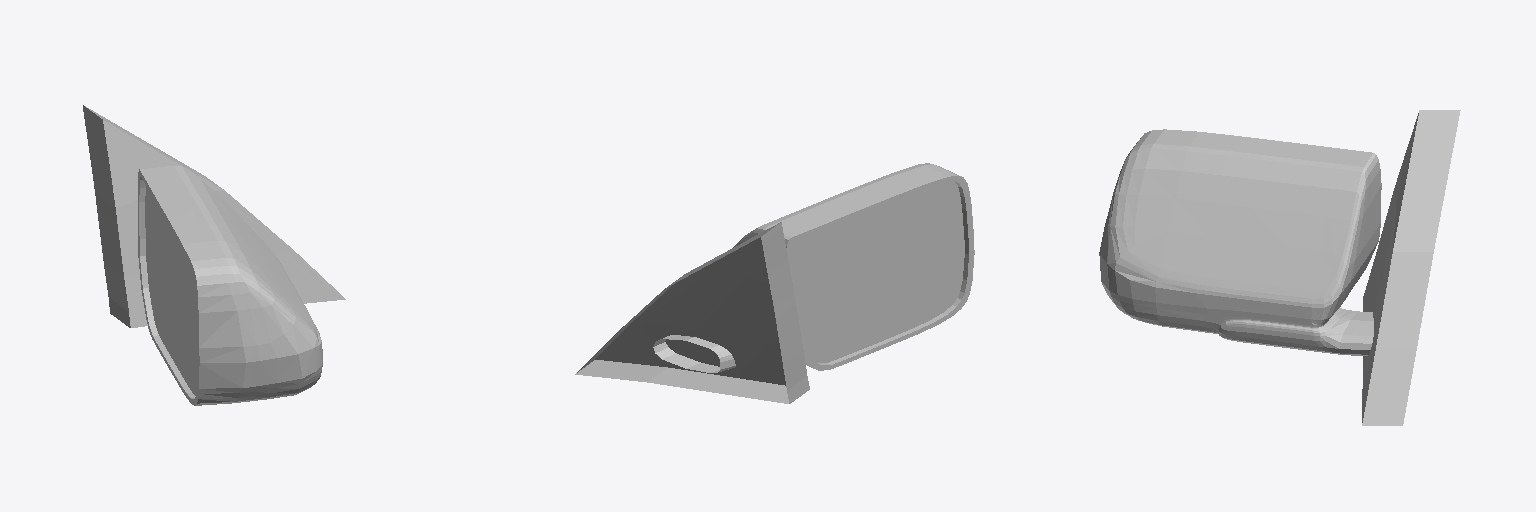
3 renders of one model, left to right at view 1: azimuth 30°, elevation 25°; view 2: azimuth 150°, elevation 25°; view 3: azimuth 270°, elevation 25°, orthographic.
Visible parts, largest first — view 1: P712_281I_R_1_DaS_P712_281I_R, P712_281I_R_1_DaS_P712_281I_R_E, P712_281I_R_P712_281I_R_2_DTaSI; view 2: P712_281I_R_P712_281I_R_2_DTaSI, P712_281I_R_1_DaS_P712_281I_R_E, P712_281I_R_1_DaS_P712_281I_R; view 3: P712_281I_R_1_DaS_P712_281I_R, P712_281I_R_1_DaS_P712_281I_R_E.
Part boxes in pixels (x1,y1,x2,y2): P712_281I_R_1_DaS_P712_281I_R: (83, 105, 322, 405); P712_281I_R_1_DaS_P712_281I_R_E: (103, 120, 345, 405); P712_281I_R_P712_281I_R_2_DTaSI: (145, 186, 197, 395); P712_281I_R_P712_281I_R_2_DTaSI: (790, 182, 964, 362); P712_281I_R_1_DaS_P712_281I_R_E: (595, 176, 974, 385); P712_281I_R_1_DaS_P712_281I_R: (575, 163, 968, 403); P712_281I_R_1_DaS_P712_281I_R: (1099, 110, 1460, 425); P712_281I_R_1_DaS_P712_281I_R_E: (1362, 113, 1418, 422).
Size of the model in its own units: 34.5 by 26.47 by 41.05.